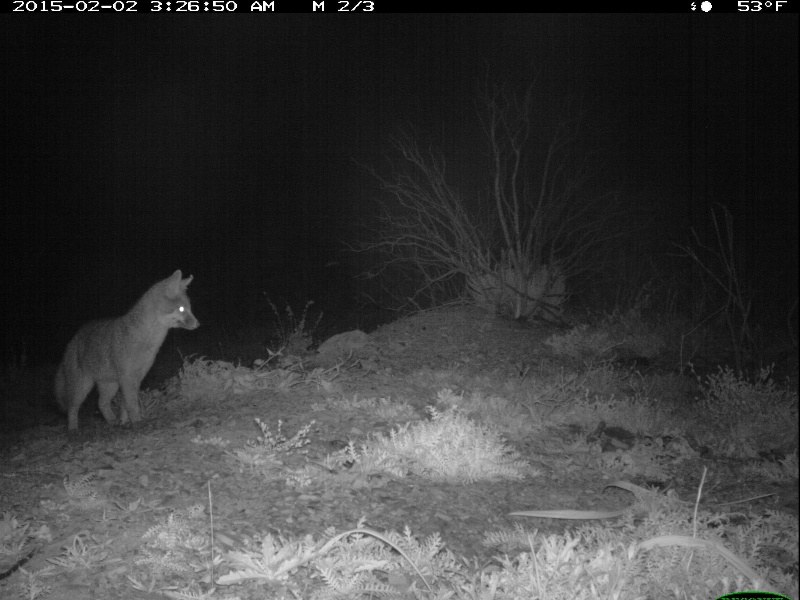coyote: (53, 264, 204, 440)
